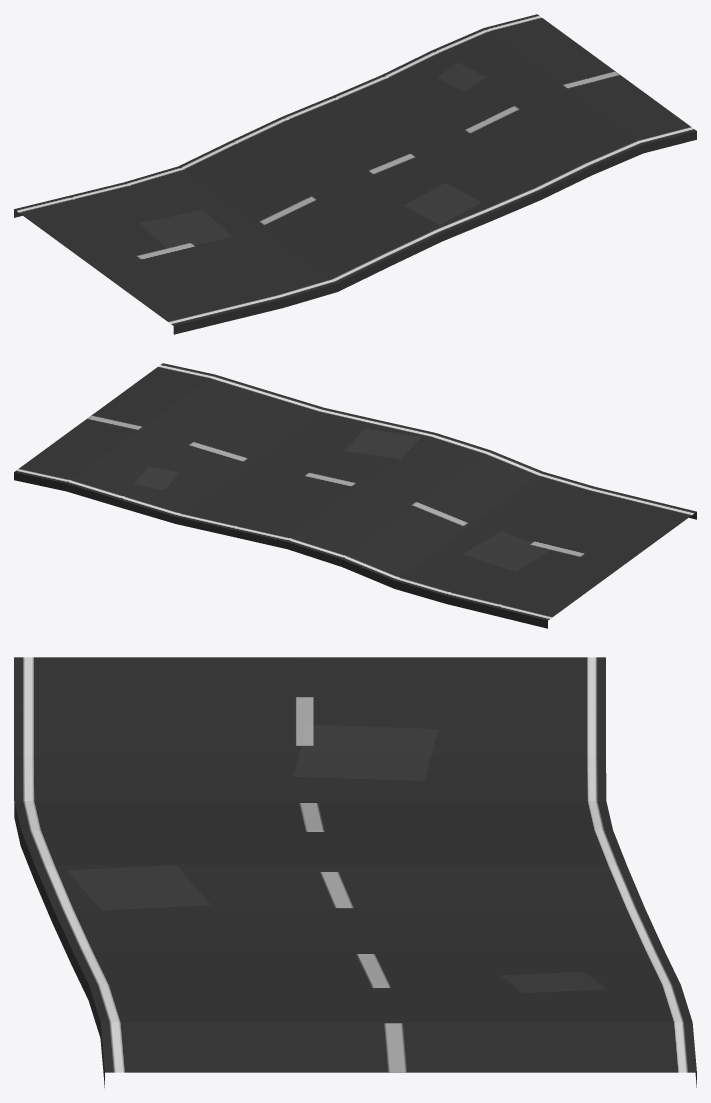
The model's file is road2.fbx.
3 renders of one model, top to bottom at view 1: azimuth 30°, elevation 25°; view 2: azimuth 150°, elevation 25°; view 3: azimuth 270°, elevation 25°, orthographic. The views are drawn at different scales.
Visible parts, largest first — view 1: Plane.002; view 2: Plane.002; view 3: Plane.002.
Boxes of the visible parts, bbox=[...] form: Plane.002: bbox=[14, 14, 696, 334]; Plane.002: bbox=[14, 363, 696, 628]; Plane.002: bbox=[14, 657, 696, 1087].
Size of the model in its own units: 800 by 73.27 by 466.
1 material, 1 textured.
